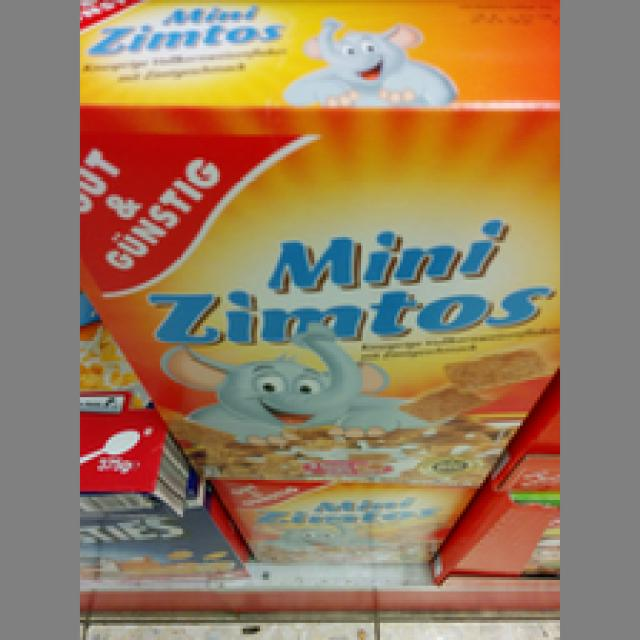groceries: (77, 0, 554, 483)
